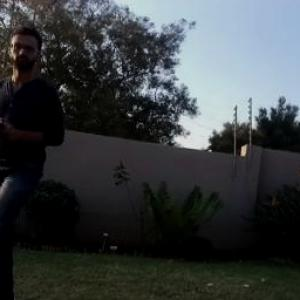follow: (0, 16, 69, 299)
